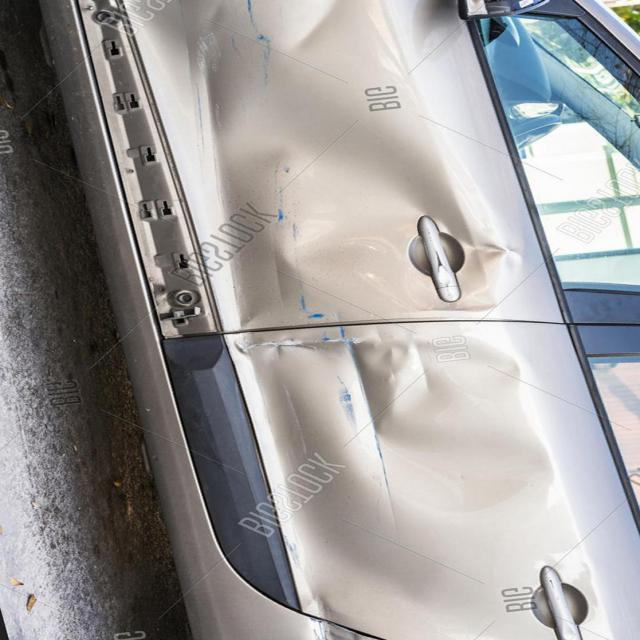dent: (219, 312, 596, 580), (166, 19, 430, 291)
